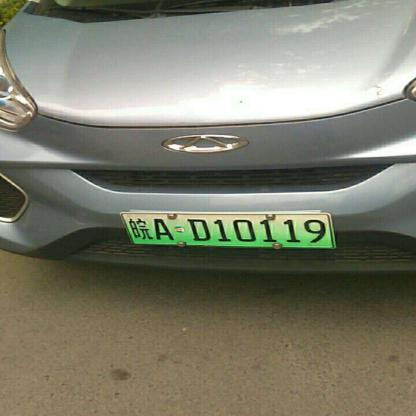lp: (123, 213, 332, 246)
